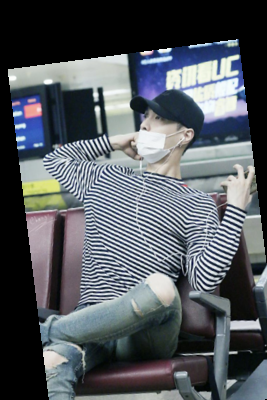mask_weared_incorrect: (126, 90, 210, 170)
